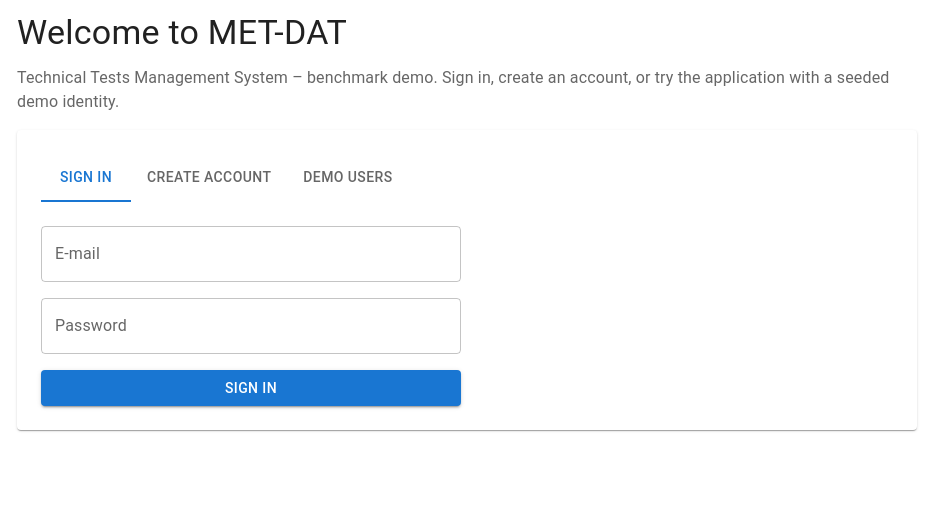
Test: Sign-in and registration › shows the server message when credentials are wrong
The width and height of the screenshot is (935, 513).
Step 1. Type "a@example.com" into the field labelled "E-mail" → (251, 254), box [41,226,461,282]
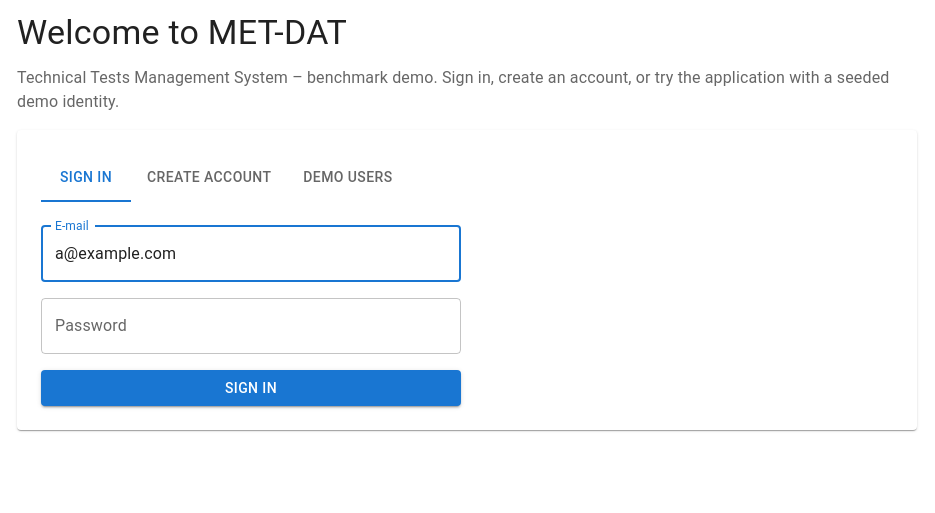
Step 2. Type "whatever1" into the password field labelled "Password" → (251, 326), box [41,298,461,354]
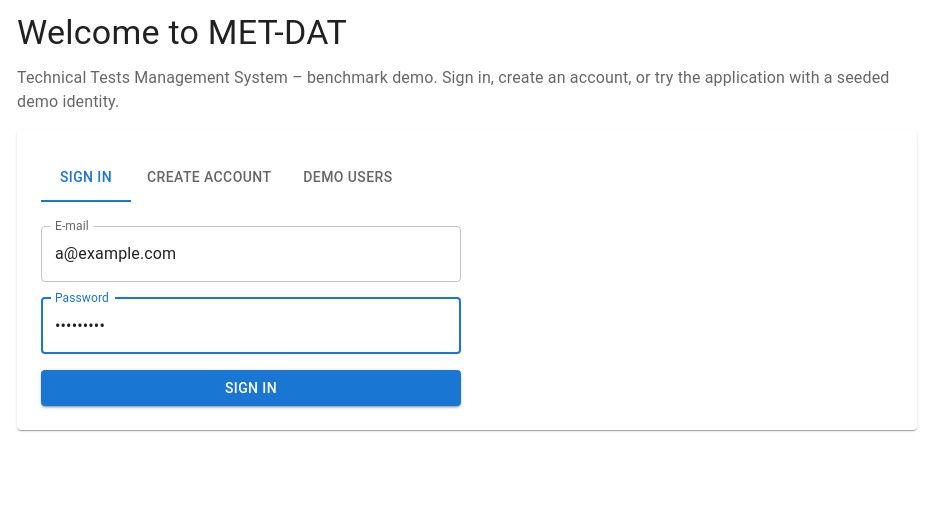
Step 3. Click the button "Sign in" → (251, 388), box [41,370,461,406]
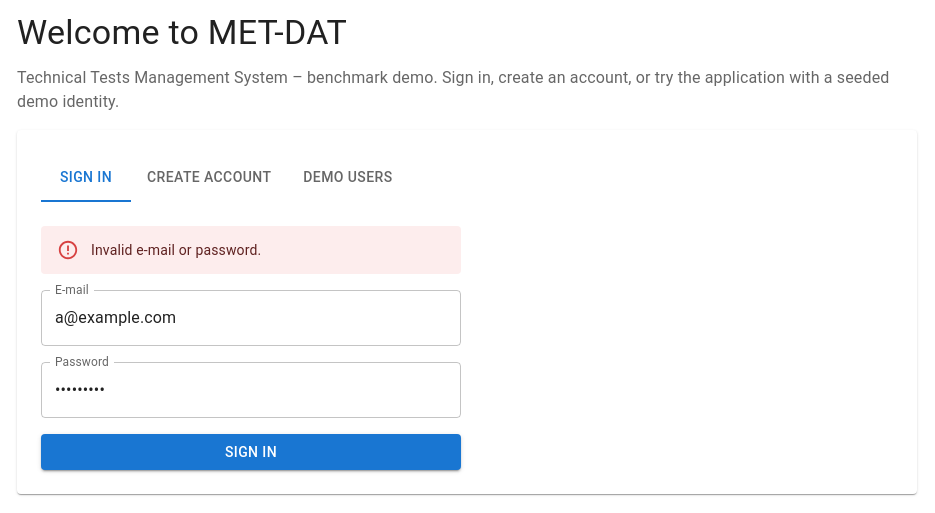
Check: the message reads "Invalid e-mail or password.", box [91,242,261,258]
